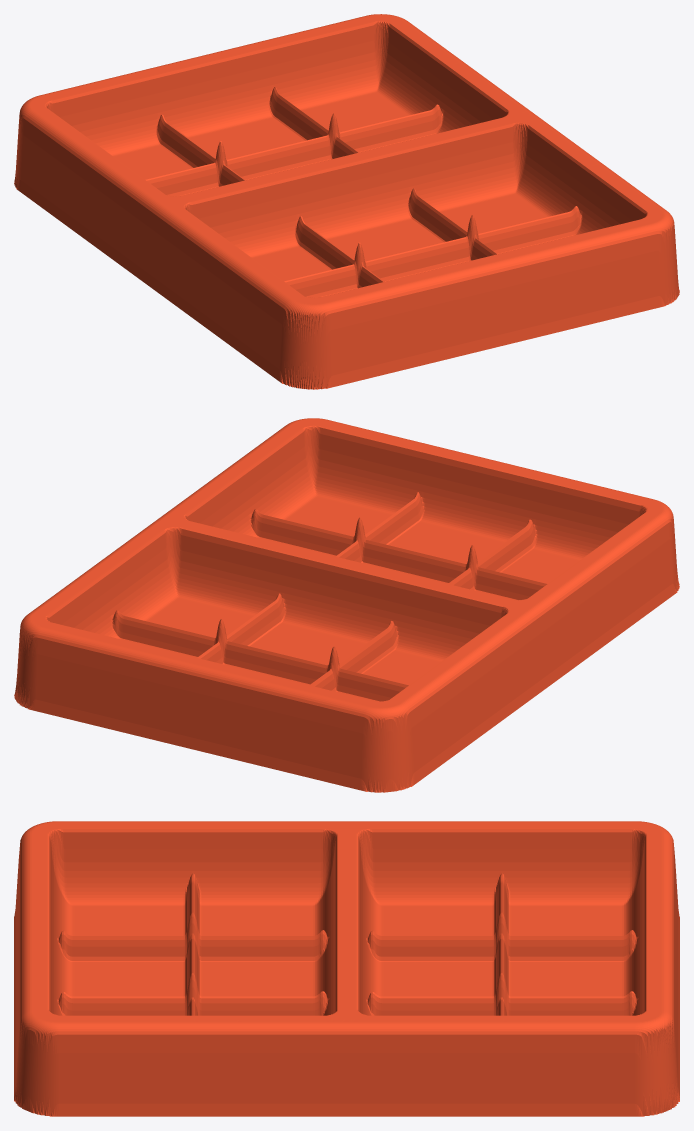
File: mold.glb
3 renders of one model, top to bottom at view 1: azimuth 30°, elevation 25°; view 2: azimuth 150°, elevation 25°; view 3: azimuth 270°, elevation 25°, orthographic. The views are drawn at different scales.
Visible parts, largest first — view 1: geometry_0; view 2: geometry_0; view 3: geometry_0.
Boxes of the visible parts, <box> form: geometry_0: <box>14,14,679,389</box>; geometry_0: <box>14,418,679,792</box>; geometry_0: <box>14,821,679,1116</box>.
Size of the model in its own units: 0.1035 by 0.0195 by 0.1354.
